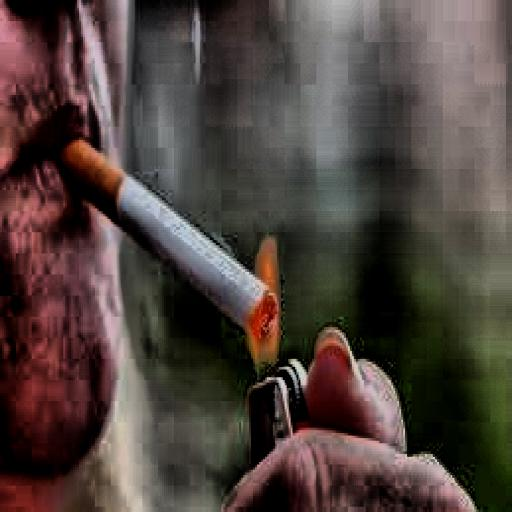fire: (233, 245, 287, 375)
